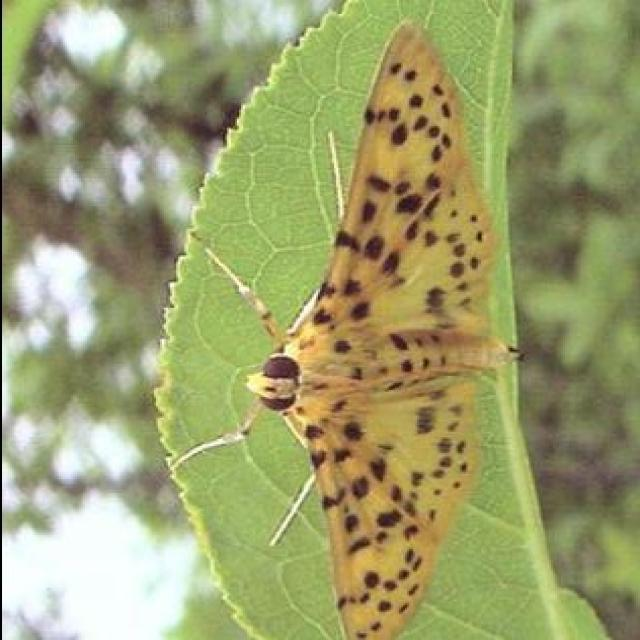peach borer: (239, 25, 516, 640)
